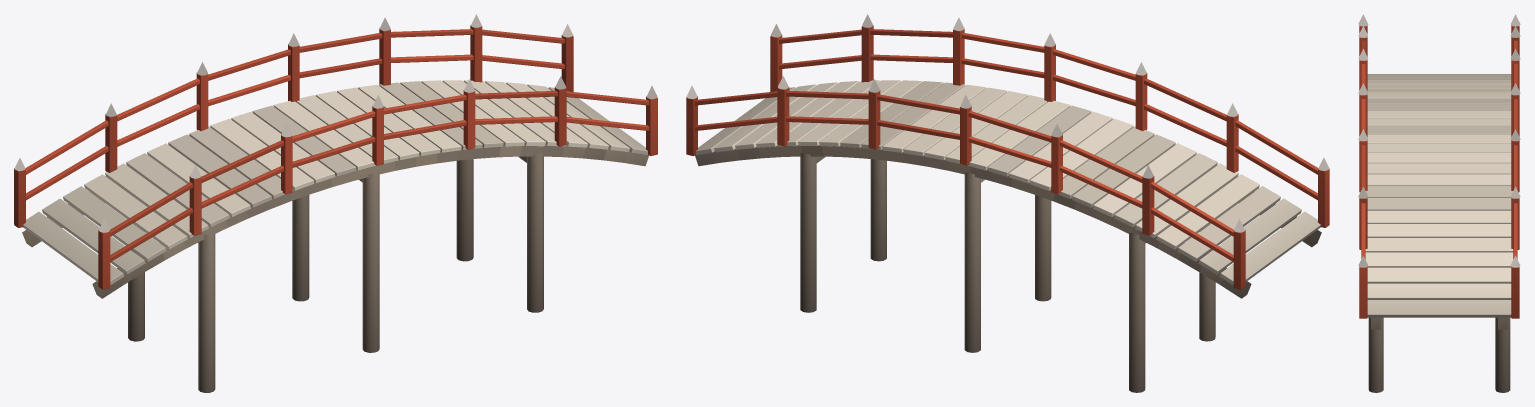
Rendered from bridge_arched.glb.
3 renders of one model, left to right at view 1: azimuth 30°, elevation 25°; view 2: azimuth 150°, elevation 25°; view 3: azimuth 270°, elevation 25°, orthographic. The views are drawn at different scales.
Parts seen in each view (by area): view 1: bridge_arched; view 2: bridge_arched; view 3: bridge_arched.
Part boxes in pixels (x1=…): bridge_arched: x1=14, y1=14, x2=657, y2=392; bridge_arched: x1=686, y1=14, x2=1329, y2=392; bridge_arched: x1=1358, y1=14, x2=1520, y2=392.
Size of the model in its own units: 9.16 by 4.08 by 2.56.
